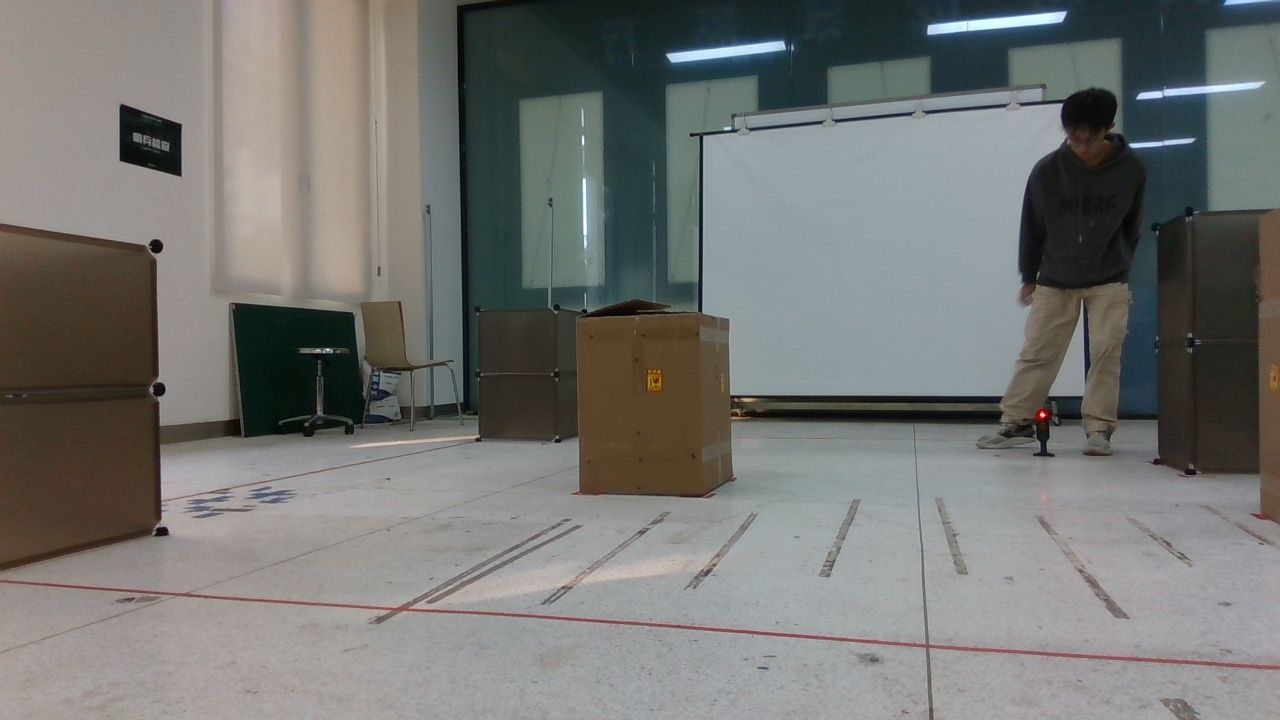red_light: (1026, 404, 1057, 460)
